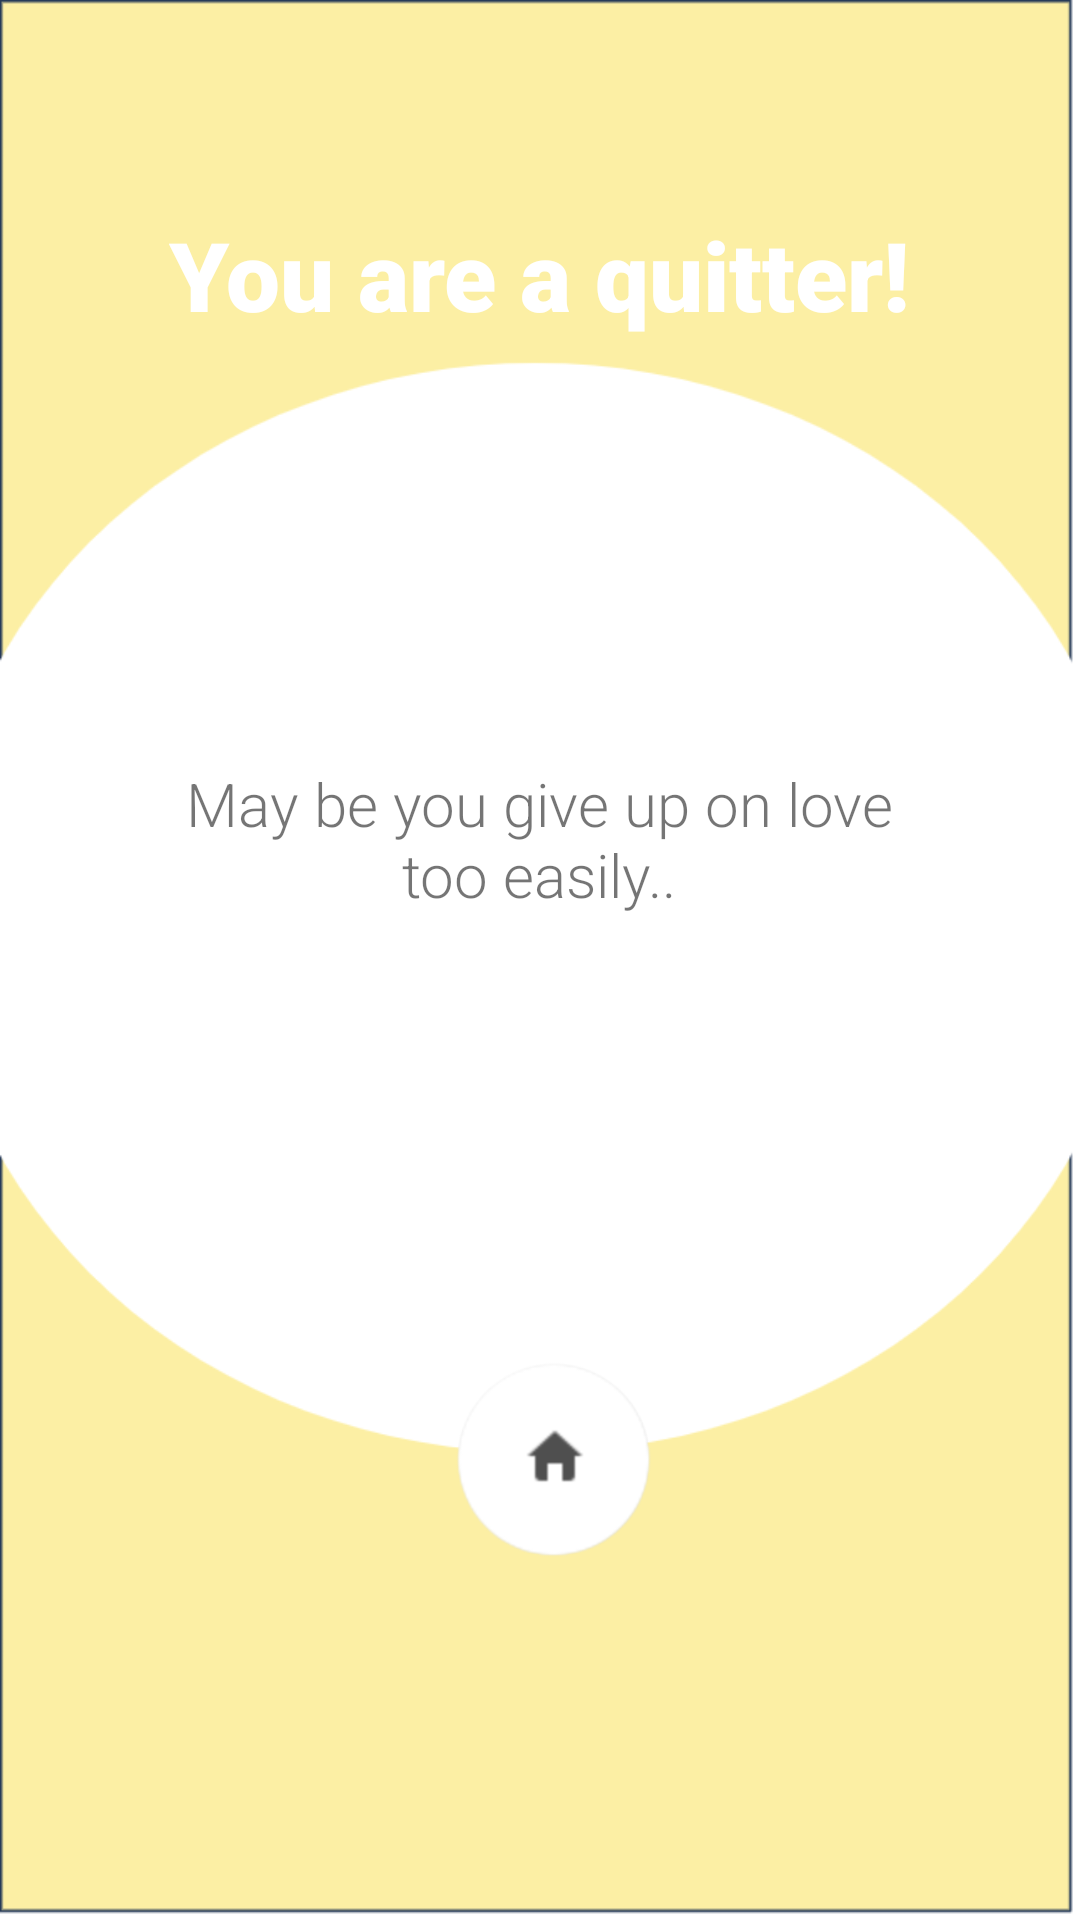

Icons on this 1080x1920 Android screen, each with the point to tap as (x=x, y=y):
home: (x=581, y=1482)
